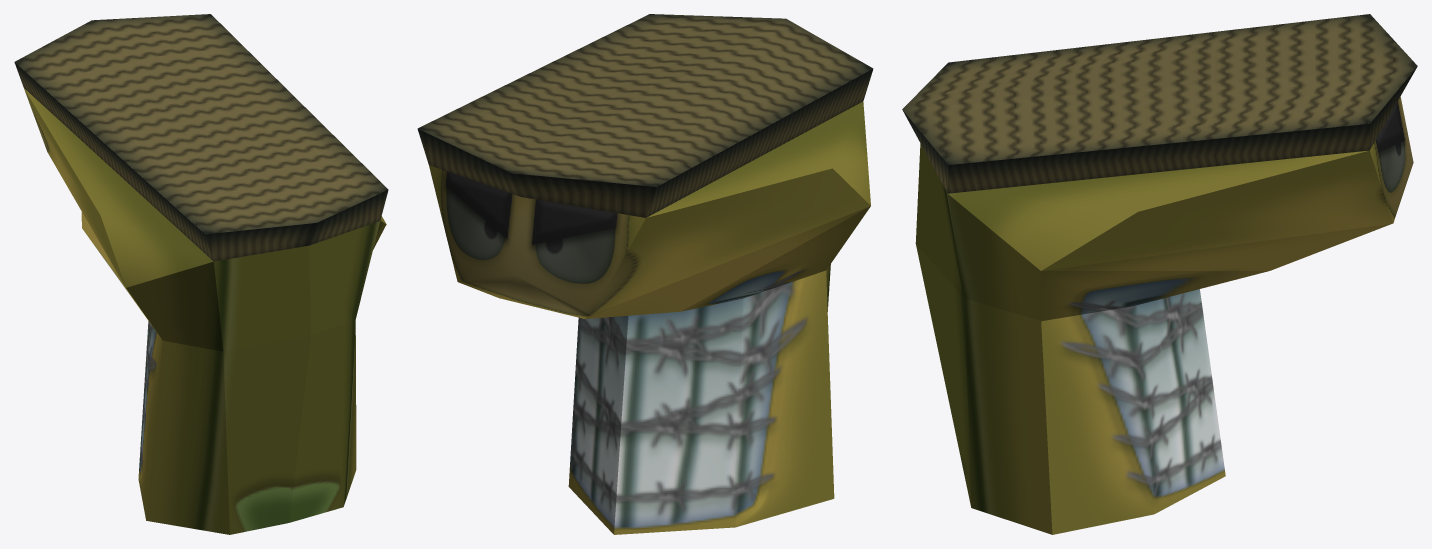
File: gumshoe.glb
The picture shows the model from 3 angles, left to right: view 1: azimuth 30°, elevation 25°; view 2: azimuth 150°, elevation 25°; view 3: azimuth 270°, elevation 25°; orthographic projection. The views are drawn at different scales.
Visible parts, largest first — view 1: gumshoe; view 2: gumshoe; view 3: gumshoe.
Boxes of the visible parts, x1,y1,x2,y2 form: gumshoe: (14,14,388,534); gumshoe: (417,14,873,534); gumshoe: (902,14,1417,534).
Bounding box in the file's own units: 1.55 × 2.04 × 2.32.
Materials: 1 (1 with a texture image).
